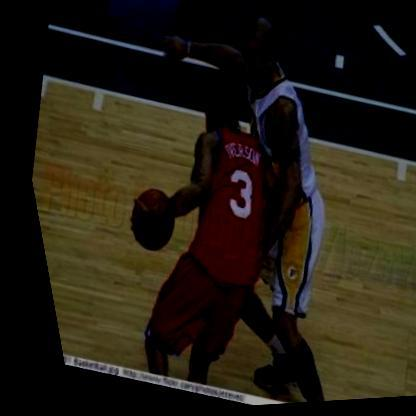basketball: (111, 178, 182, 265)
